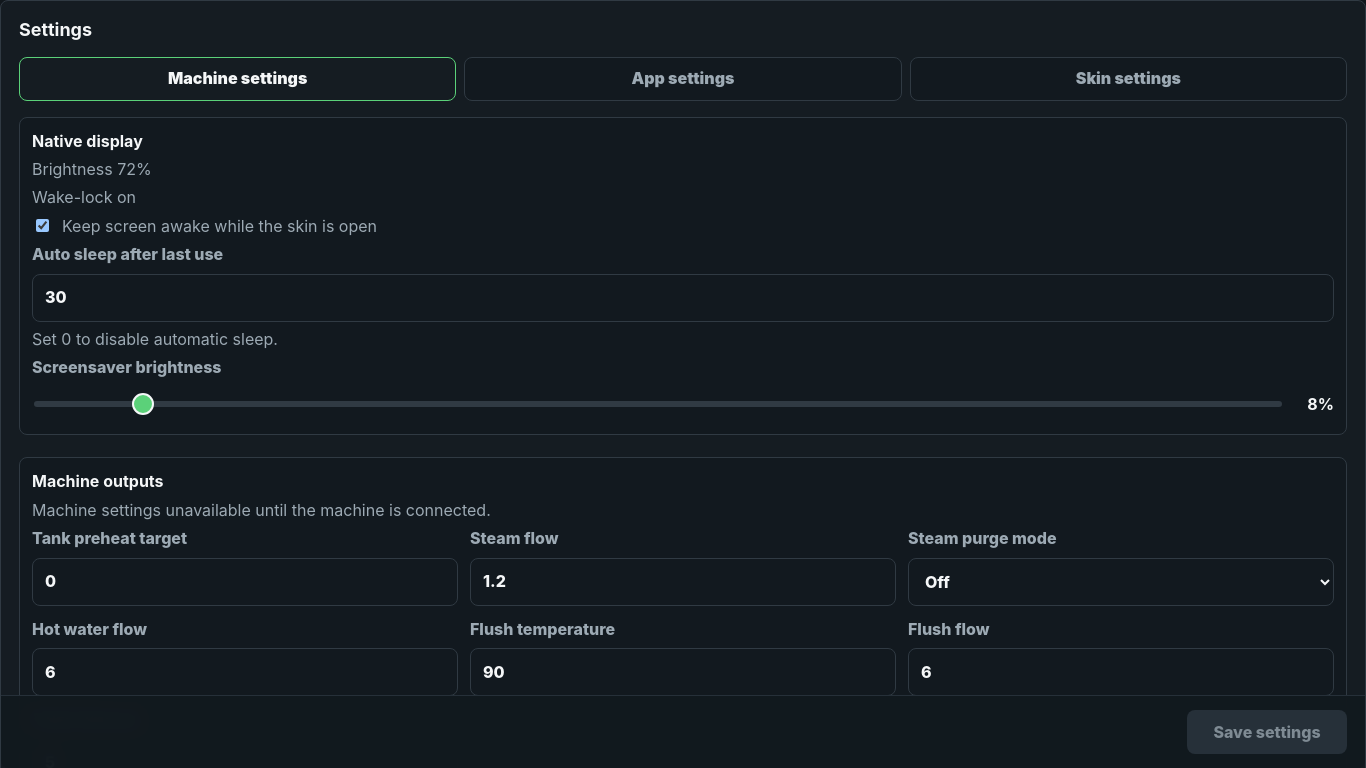
Scenario: SettingsPage › shows native display controls and Visualizer plugin status
Expected: the text "Native display" is shown, [32,131,143,151]
Expected: the text "Brightness 72%" is shown, [32,159,152,179]
Set the slider labelled "Screensaver brightness" to "24". click: (338, 404)
box: [34,388,1282,420]
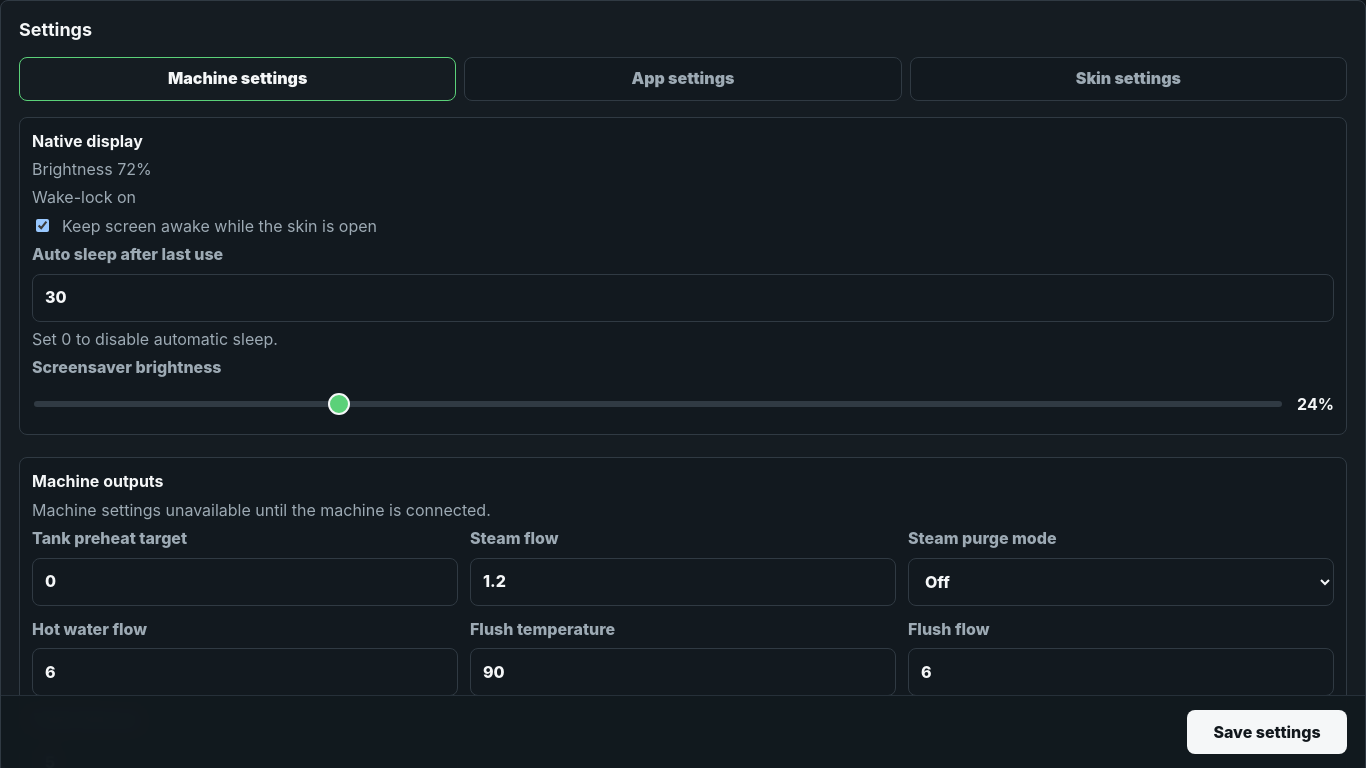
Click the button "Save settings". click: (1267, 732)
box: [1187,710,1347,754]
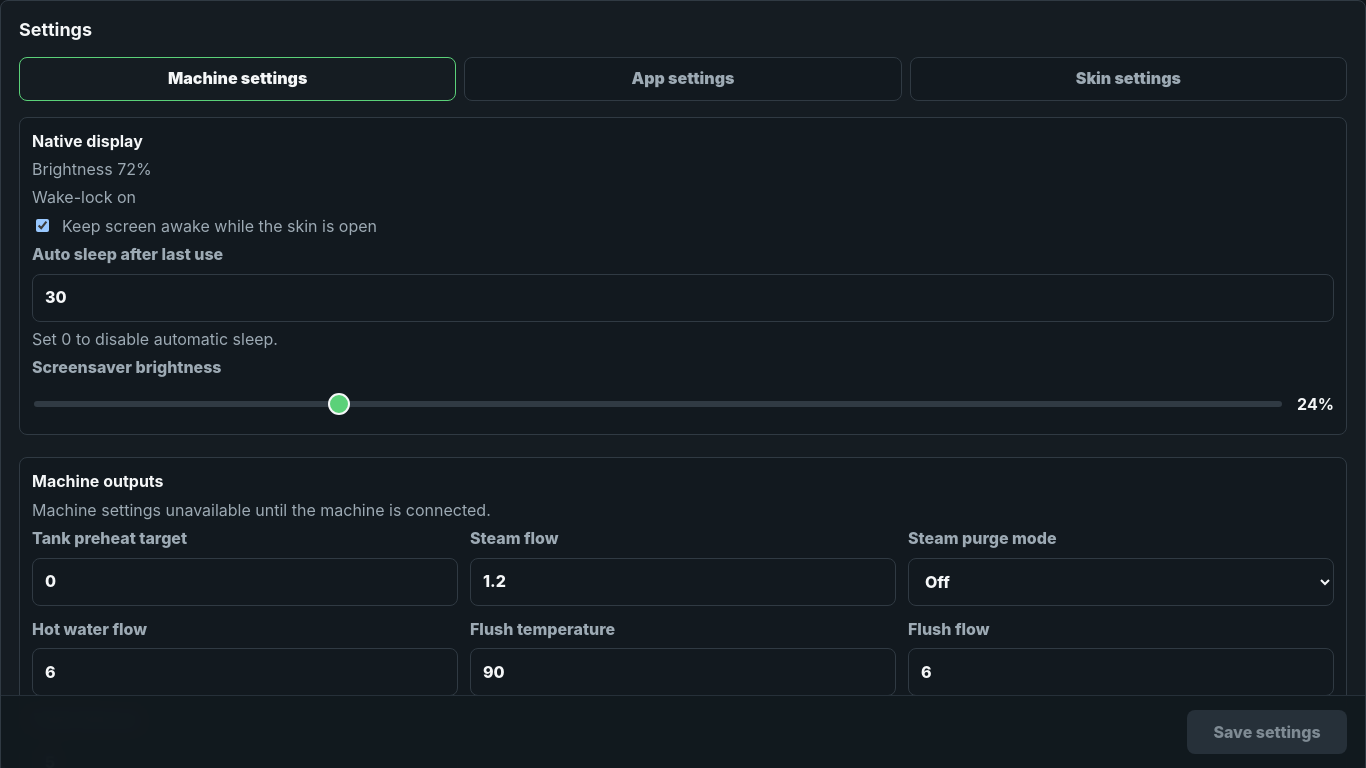
Click the tab "App settings". click: (683, 79)
box: [464,57,902,101]
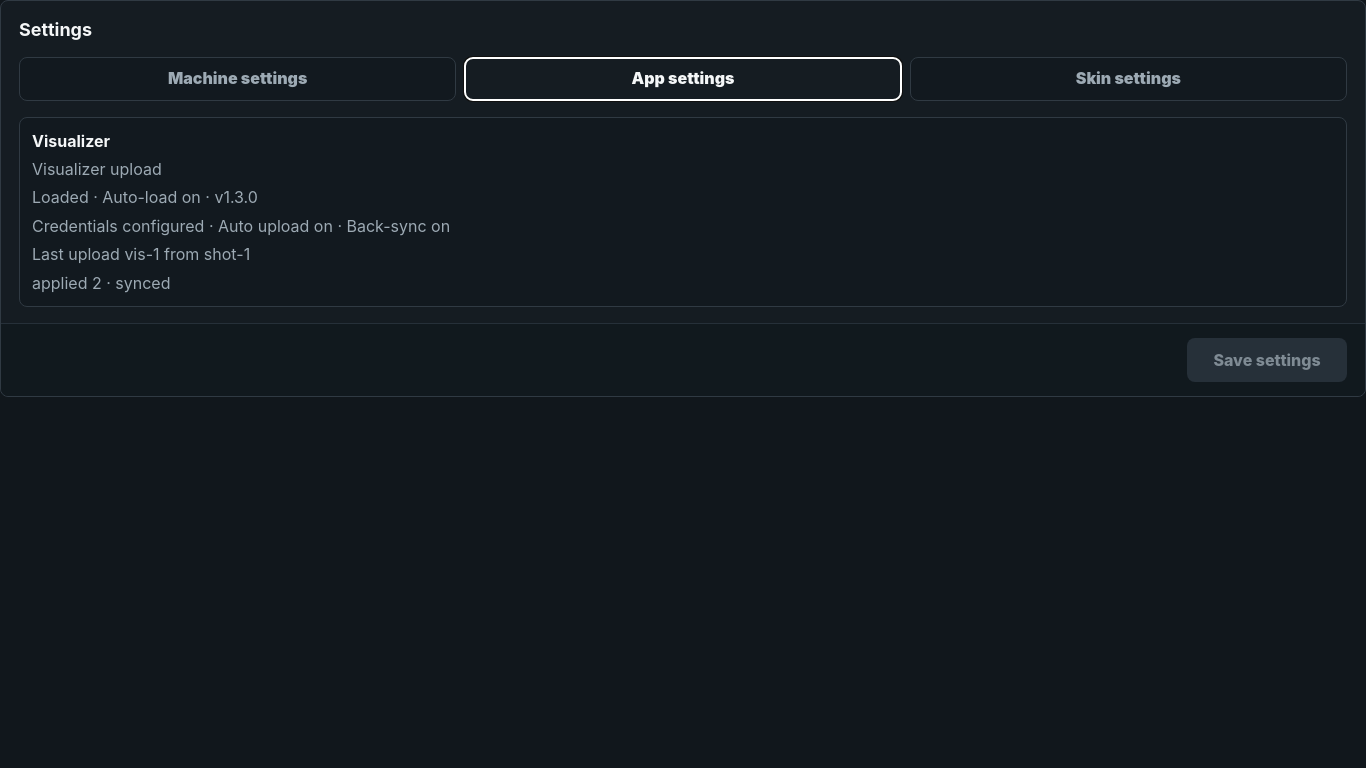
Result: the text "Visualizer upload" is shown at [32,159,162,179]
Result: the text "Loaded · Auto-load on · v1.3.0" is shown at [32,187,258,207]
Result: the text "Credentials configured · Auto upload on · Back-sync on" is shown at [32,216,450,236]
